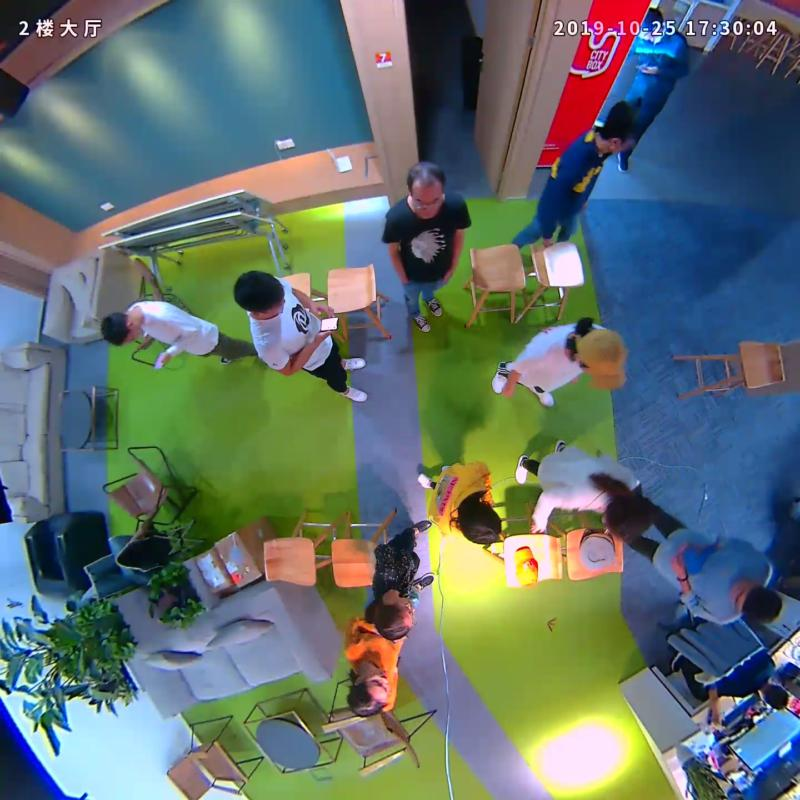head: (571, 325, 629, 392), (233, 270, 285, 320), (728, 579, 782, 624), (406, 160, 447, 218), (603, 498, 655, 542), (370, 596, 415, 642), (457, 503, 503, 547), (604, 99, 640, 155), (348, 670, 389, 718), (99, 312, 142, 346)
